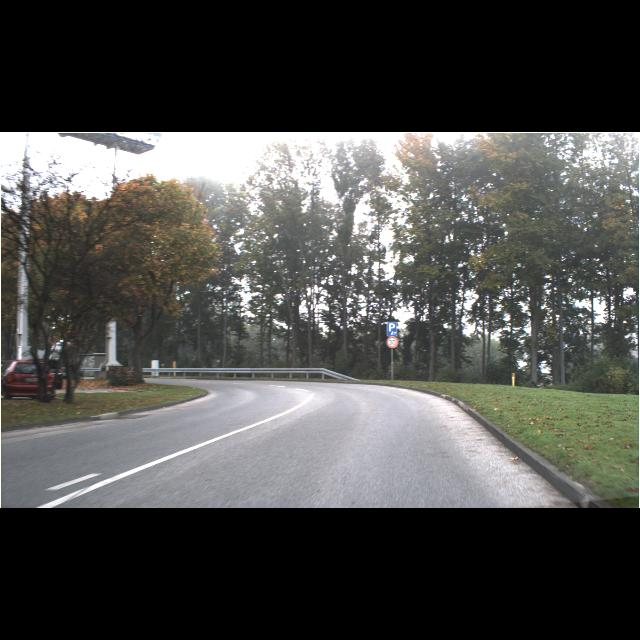prohibitory: (386, 336, 398, 348)
